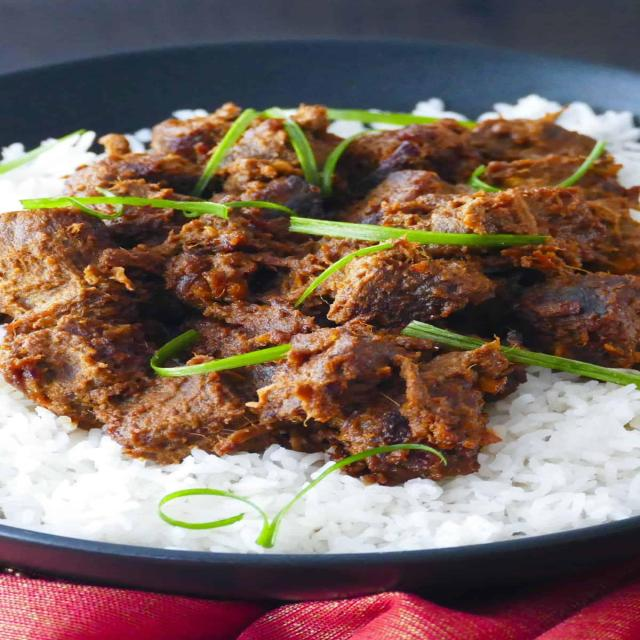Rendang: (5, 115, 640, 472)
